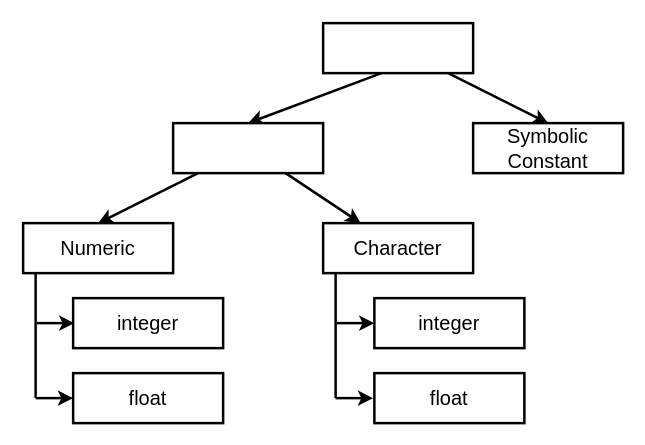
The diagram is 645 pixels wide and 445 high, and some of its shapes have lost their labels. The centre of each missing label's shape, as x and y in pixels:
"Constant" goes at pixel 397 47.
"Literal" goes at pixel 247 147.
